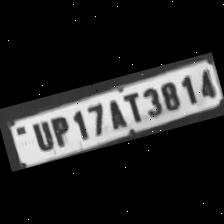1: (66, 106, 92, 144), (175, 72, 201, 108)
3: (136, 83, 164, 120)
4: (192, 66, 220, 102)
7: (82, 100, 110, 139)
8: (156, 78, 184, 114)
A: (100, 94, 129, 132)
P: (46, 113, 76, 150)
T: (119, 88, 146, 125)
U: (27, 117, 57, 155)
